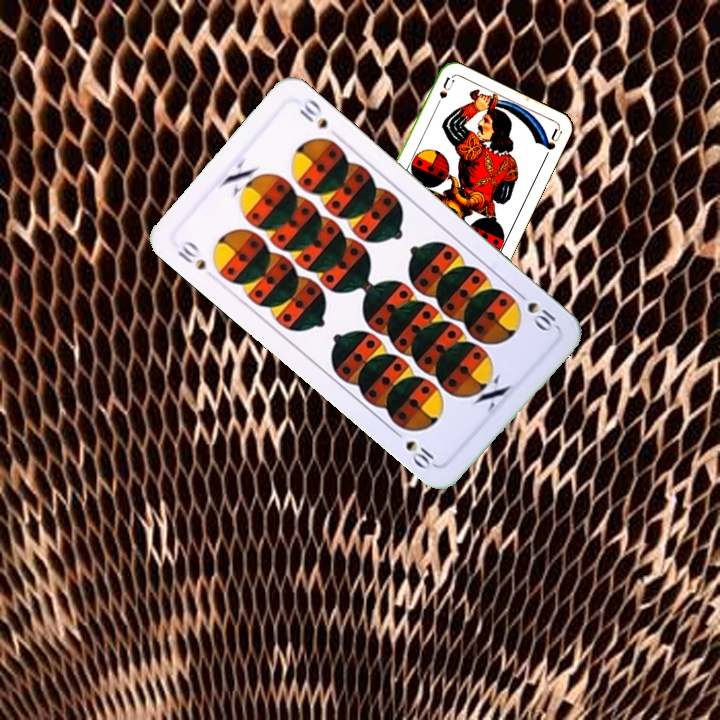S10: (512, 286, 559, 335), (173, 236, 209, 273)
SU: (431, 73, 457, 113)
